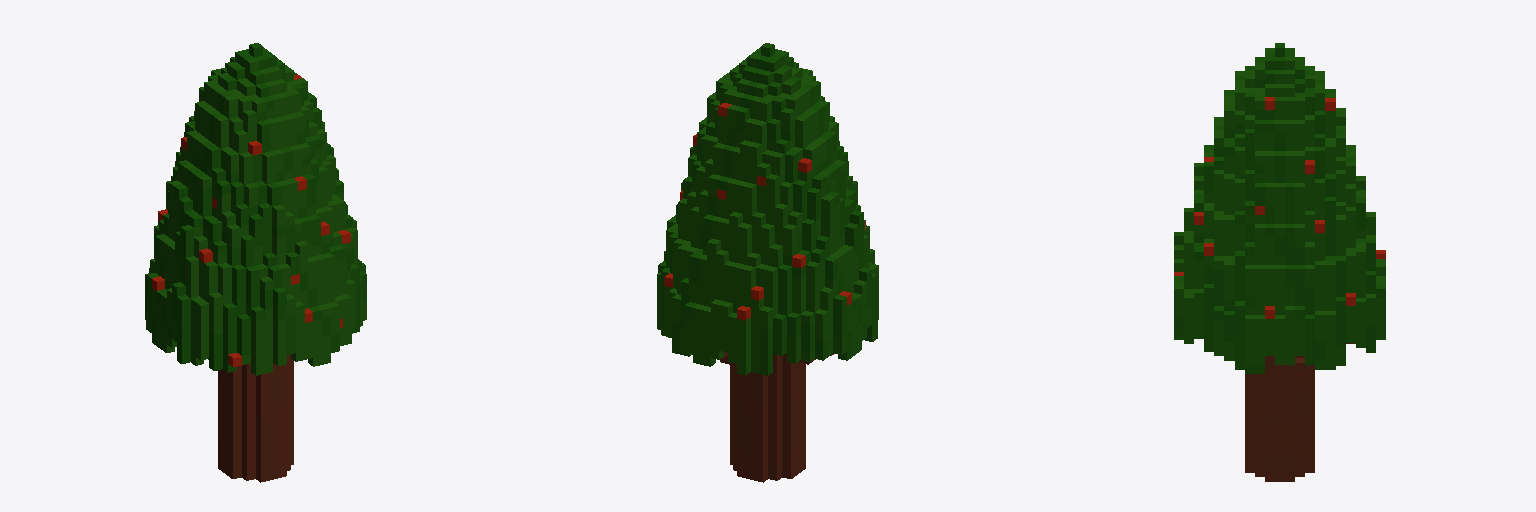
3 views of the same model, side by side, from view 1: azimuth 30°, elevation 25°; view 2: azimuth 150°, elevation 25°; view 3: azimuth 270°, elevation 25° (orthographic).
Visible parts, largest first — view 1: object 1; view 2: object 1; view 3: object 1.
Part boxes in pixels (left/top/right/bottom): object 1: left=145, top=43, right=366, bottom=482; object 1: left=657, top=43, right=878, bottom=482; object 1: left=1174, top=43, right=1385, bottom=481.
Bounding box in the file's own units: 2.1 × 4.6 × 2.1.
Materials: 1 (1 with a texture image).